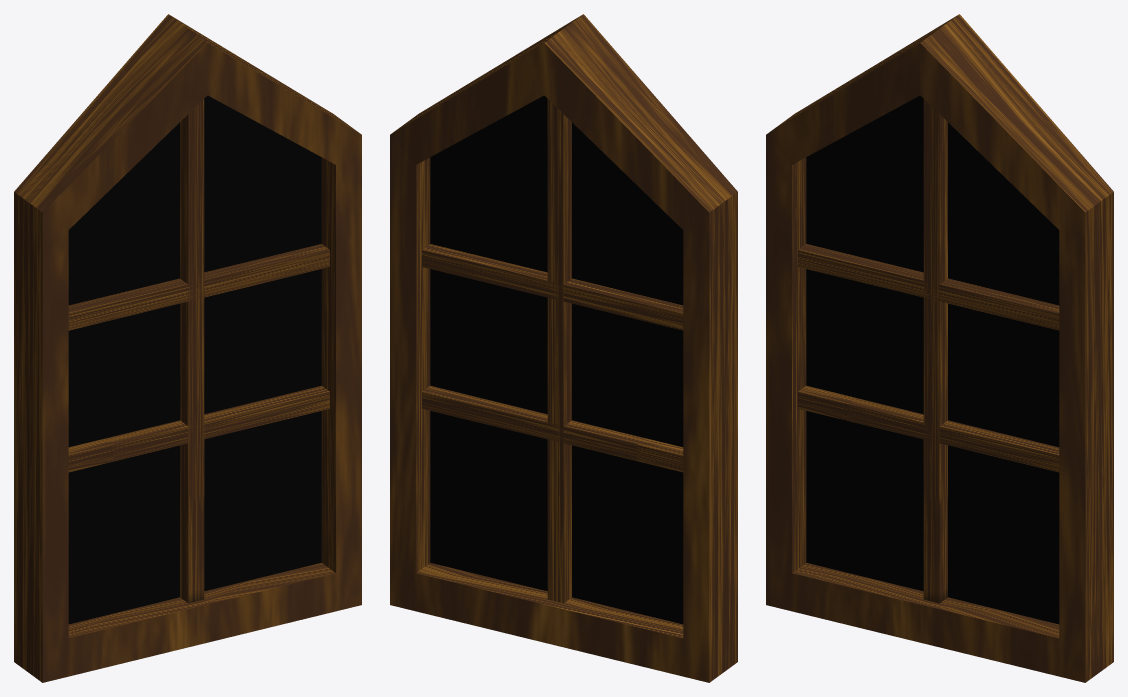
Rendered from Window.fbx.
3 views of the same model, side by side, from view 1: azimuth 30°, elevation 25°; view 2: azimuth 150°, elevation 25°; view 3: azimuth 330°, elevation 25° (orthographic).
Parts seen in each view (by area): view 1: Window; view 2: Window; view 3: Window.
Boxes of the visible parts, left/top/right/bottom form: Window: left=14, top=14, right=361, bottom=682; Window: left=390, top=14, right=737, bottom=682; Window: left=766, top=14, right=1113, bottom=682.
Size of the model in its own units: 35.66 by 167 by 302.
